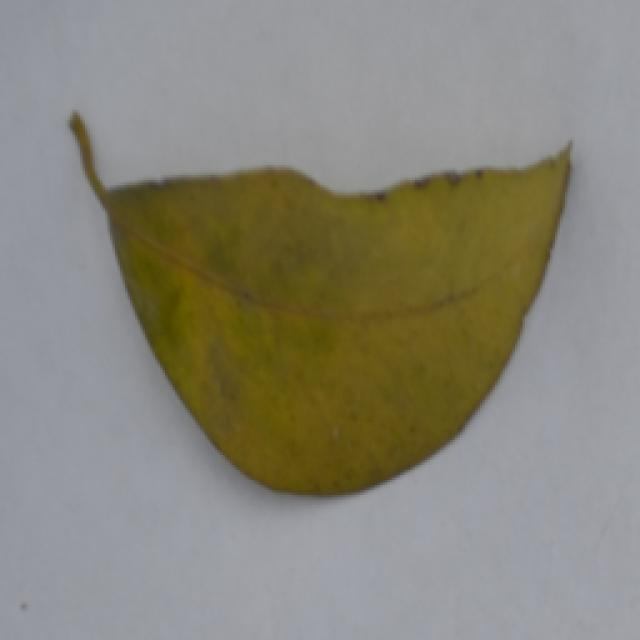blackspot: (39, 91, 594, 515)
